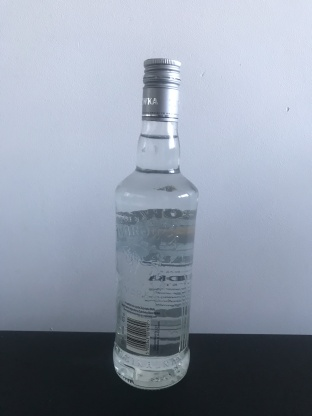nakretka: (140, 55, 182, 124)
